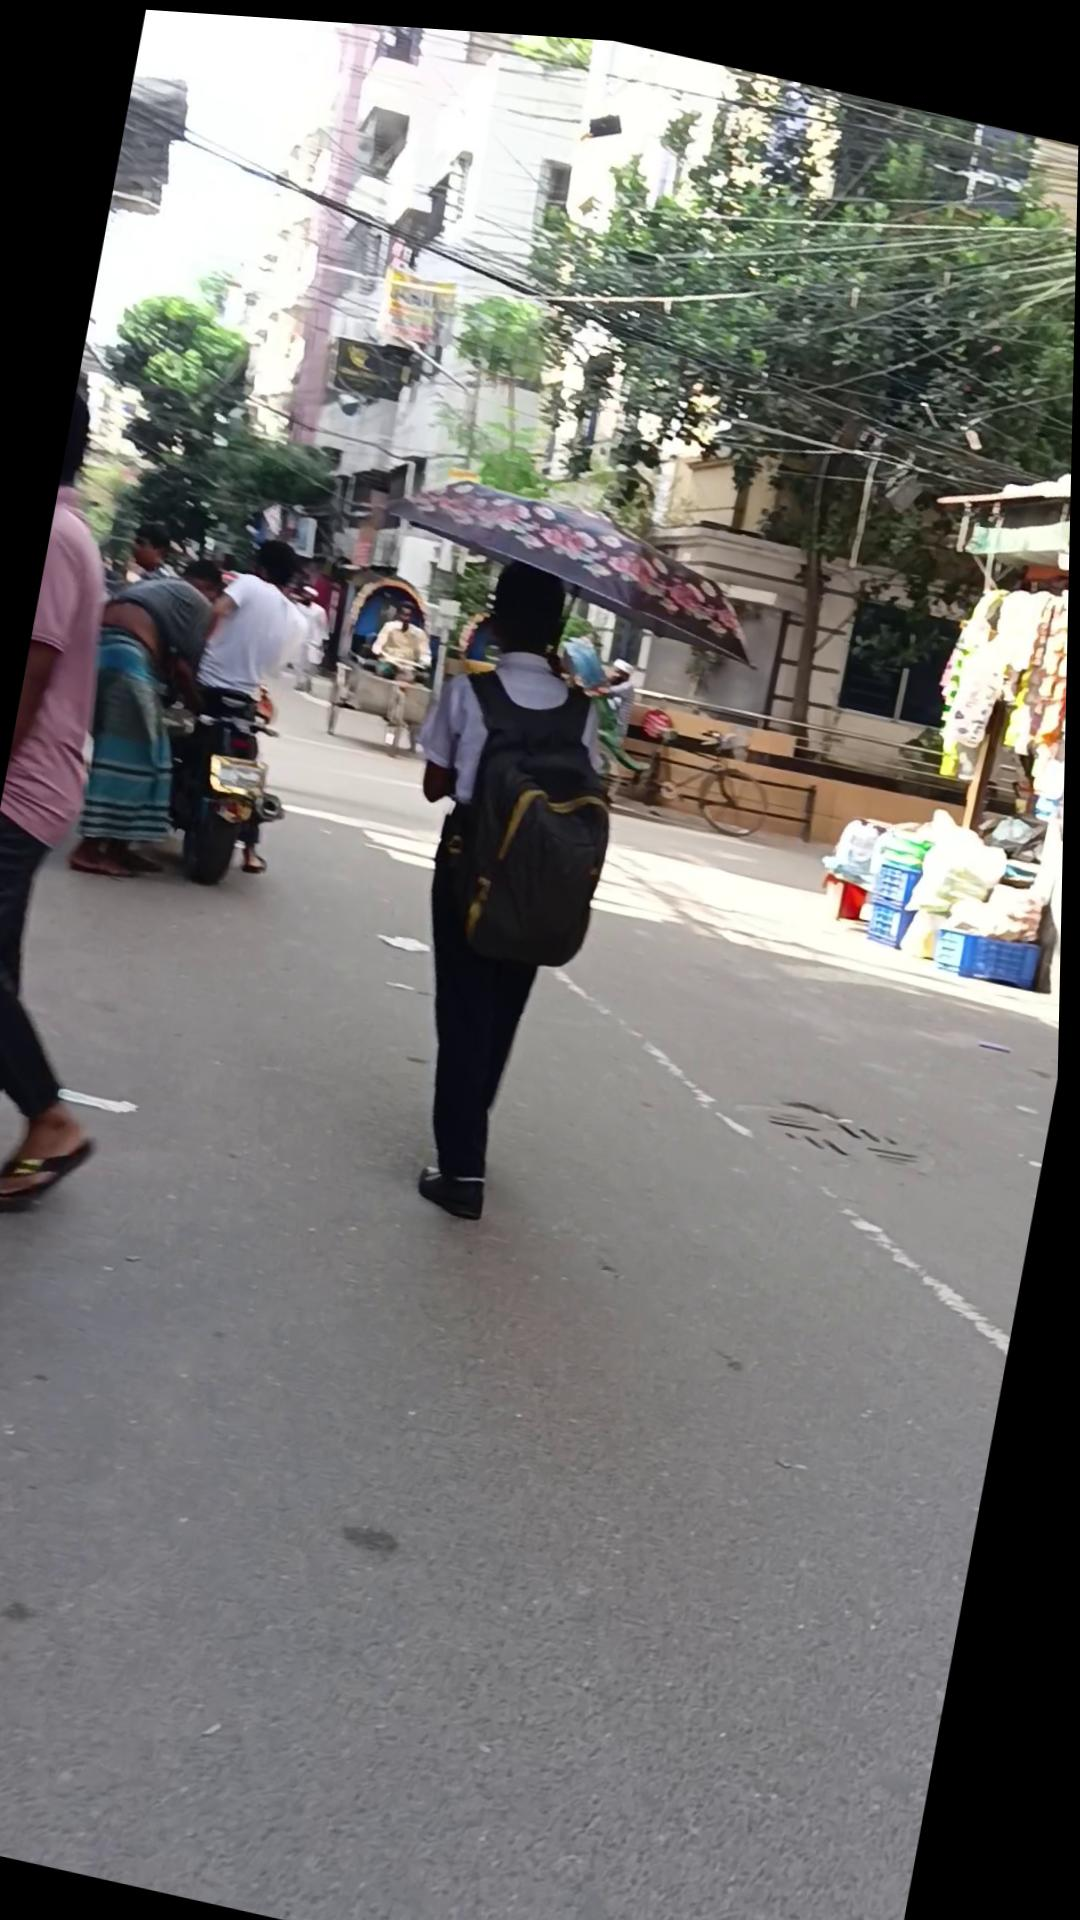Light-pole: (132, 654, 310, 897)
Muddy road: (340, 533, 658, 1233), (0, 376, 232, 1232), (57, 533, 235, 891), (161, 518, 330, 877)
Pothole: (314, 555, 456, 757)
